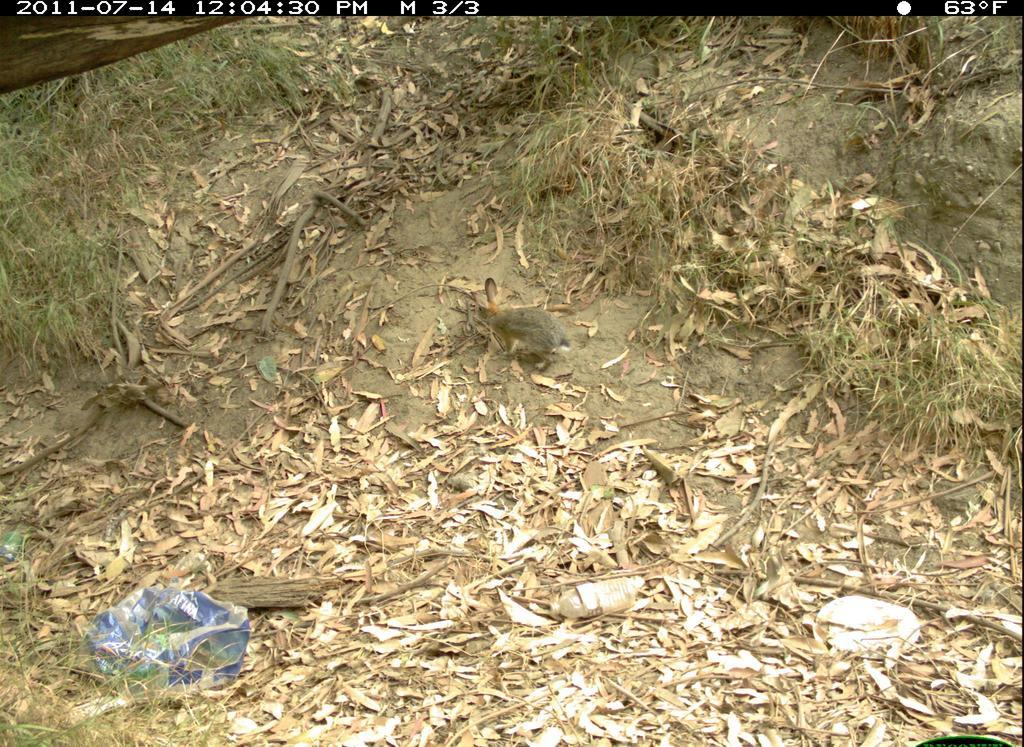rabbit: (472, 278, 580, 373)
